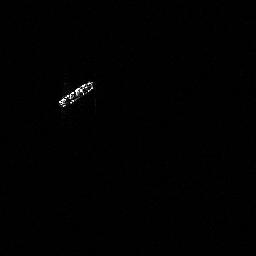ship: (57, 79, 95, 109)
